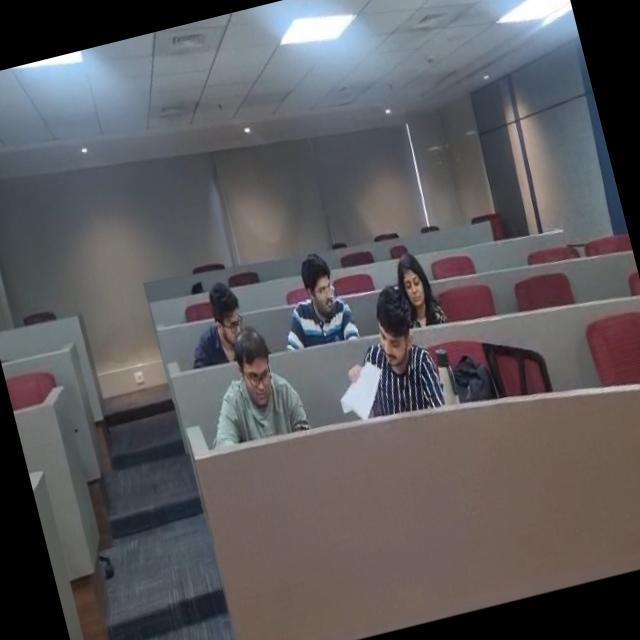cheating: (332, 282, 444, 426), (202, 322, 315, 454), (272, 250, 367, 358), (377, 238, 456, 336), (179, 278, 263, 360)
